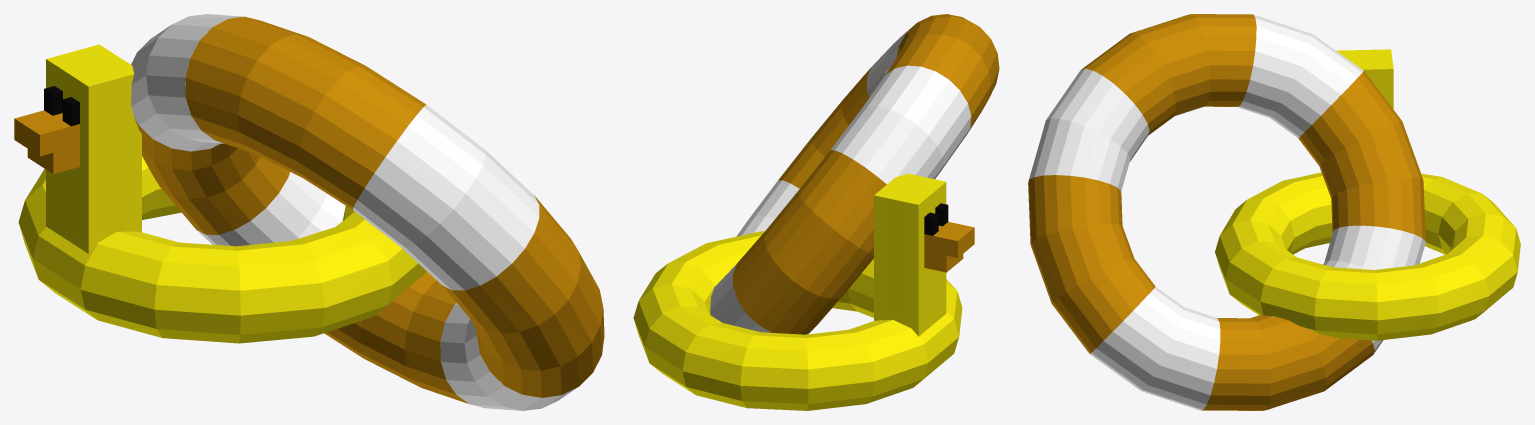
The model's file is duckPool.glb.
3 renders of one model, left to right at view 1: azimuth 30°, elevation 25°; view 2: azimuth 150°, elevation 25°; view 3: azimuth 270°, elevation 25°, orthographic. The views are drawn at different scales.
Size of the model in its own units: 0.9608 by 0.9458 by 1.34.
